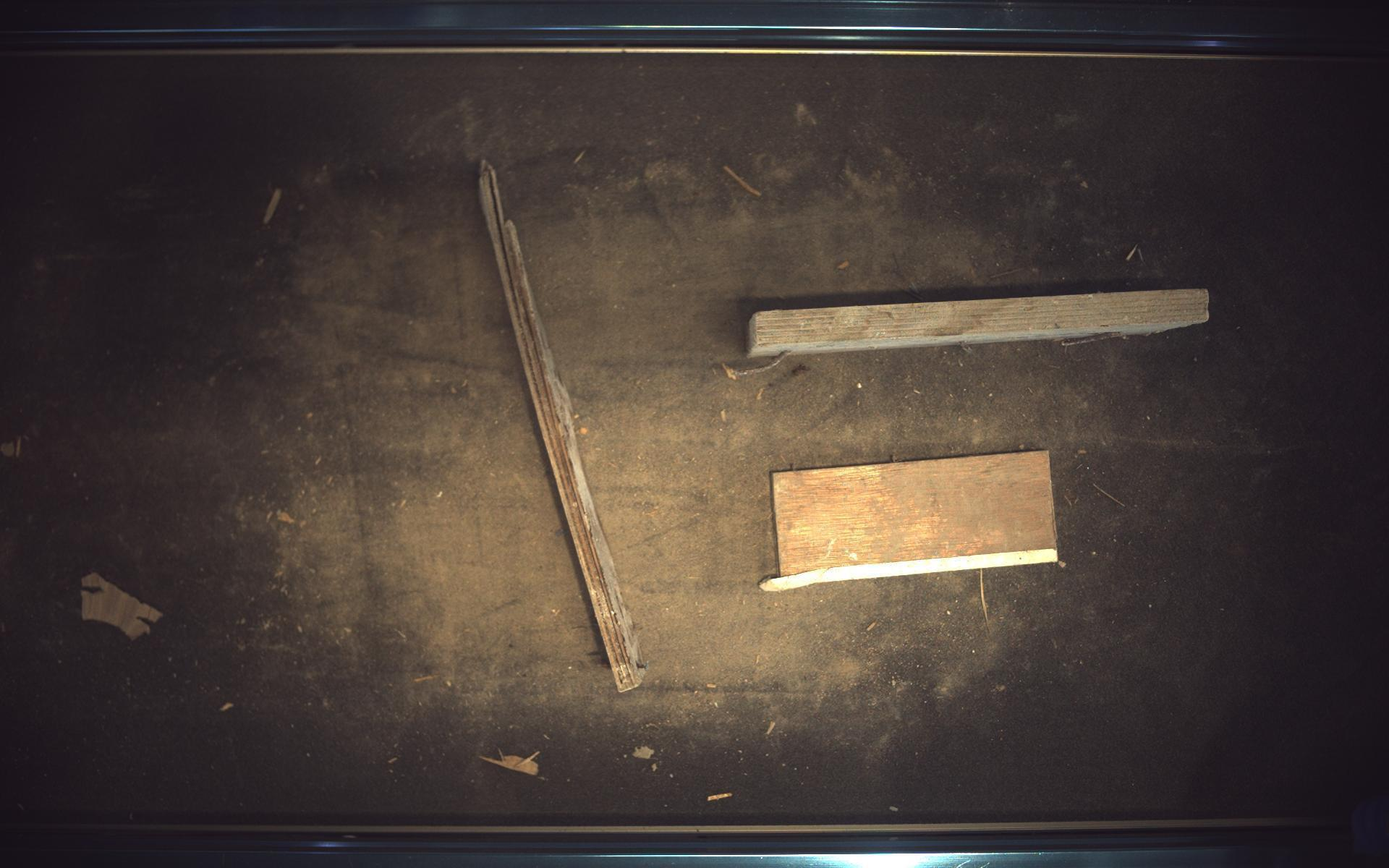wood: (480, 159, 647, 693), (762, 451, 1061, 592), (749, 289, 1212, 357)
